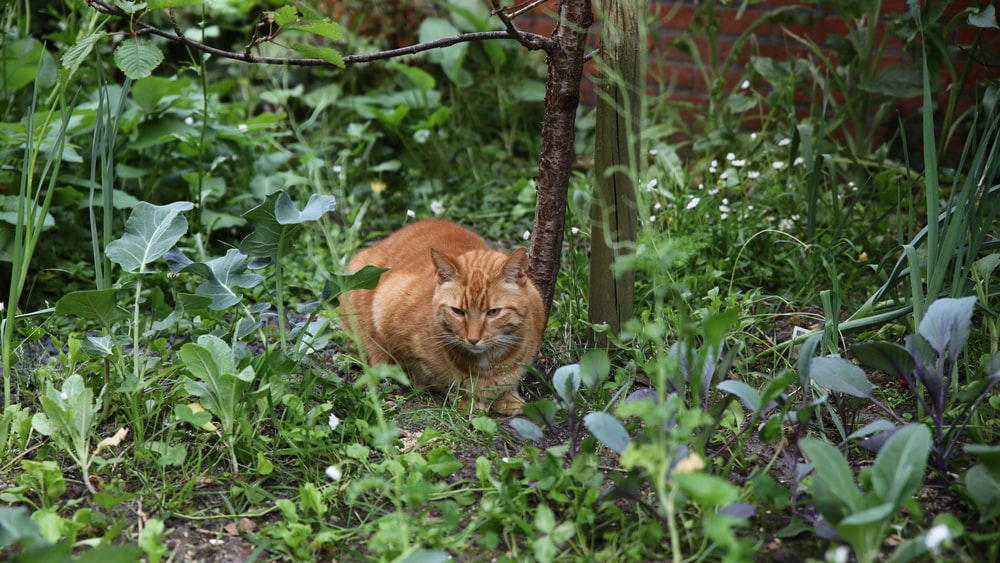cat: (343, 206, 546, 404)
